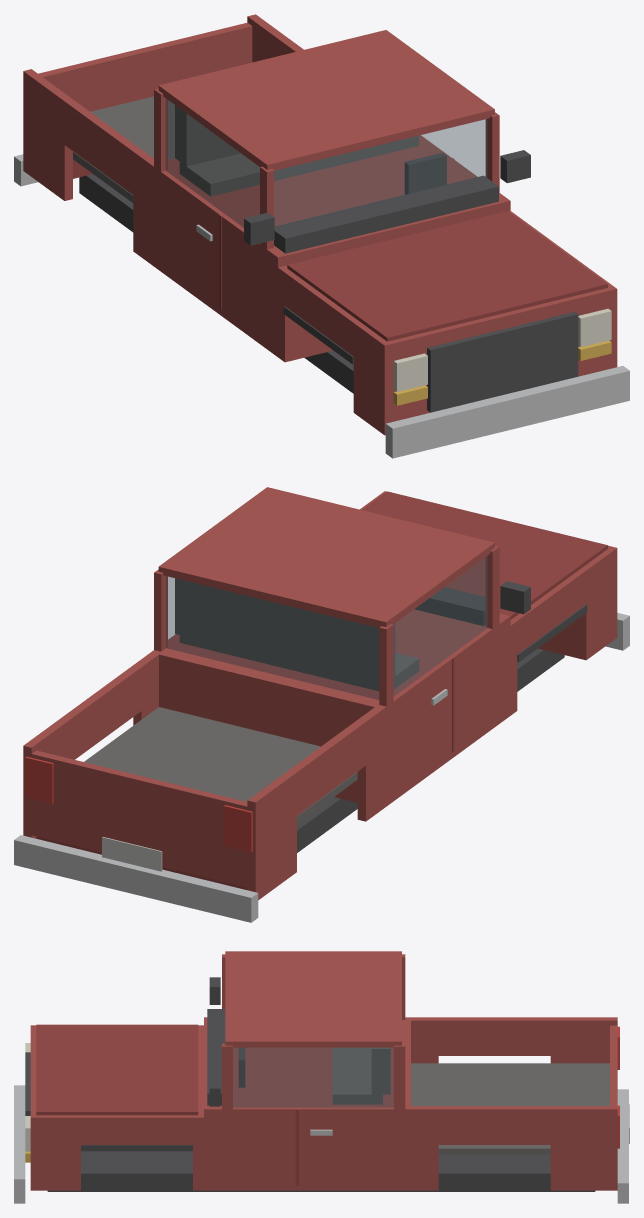
The model's file is truck_body.glb.
3 views of the same model, one above another, from view 1: azimuth 30°, elevation 25°; view 2: azimuth 150°, elevation 25°; view 3: azimuth 270°, elevation 25° (orthographic). The views are drawn at different scales.
Parts seen in each view (by area): view 1: verda_pickup; view 2: verda_pickup; view 3: verda_pickup.
Boxes of the visible parts, x1,y1,x2,y2 form: verda_pickup: (14,14,629,458); verda_pickup: (14,487,629,922); verda_pickup: (14,951,629,1203).
Size of the model in its own units: 2.35 by 1.64 by 5.51.
